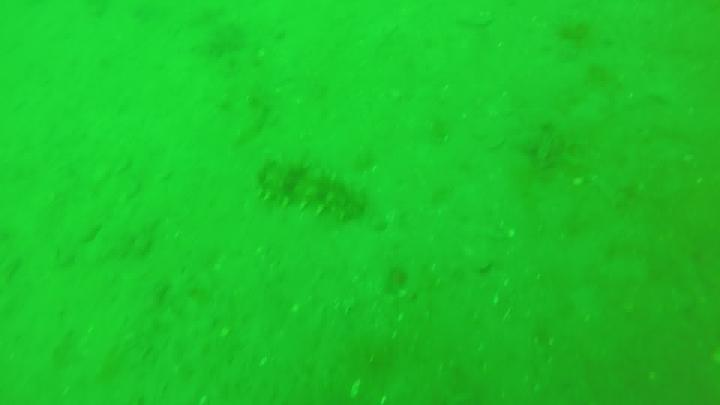holothurian: (247, 159, 358, 219)
starfish: (523, 124, 587, 169)
